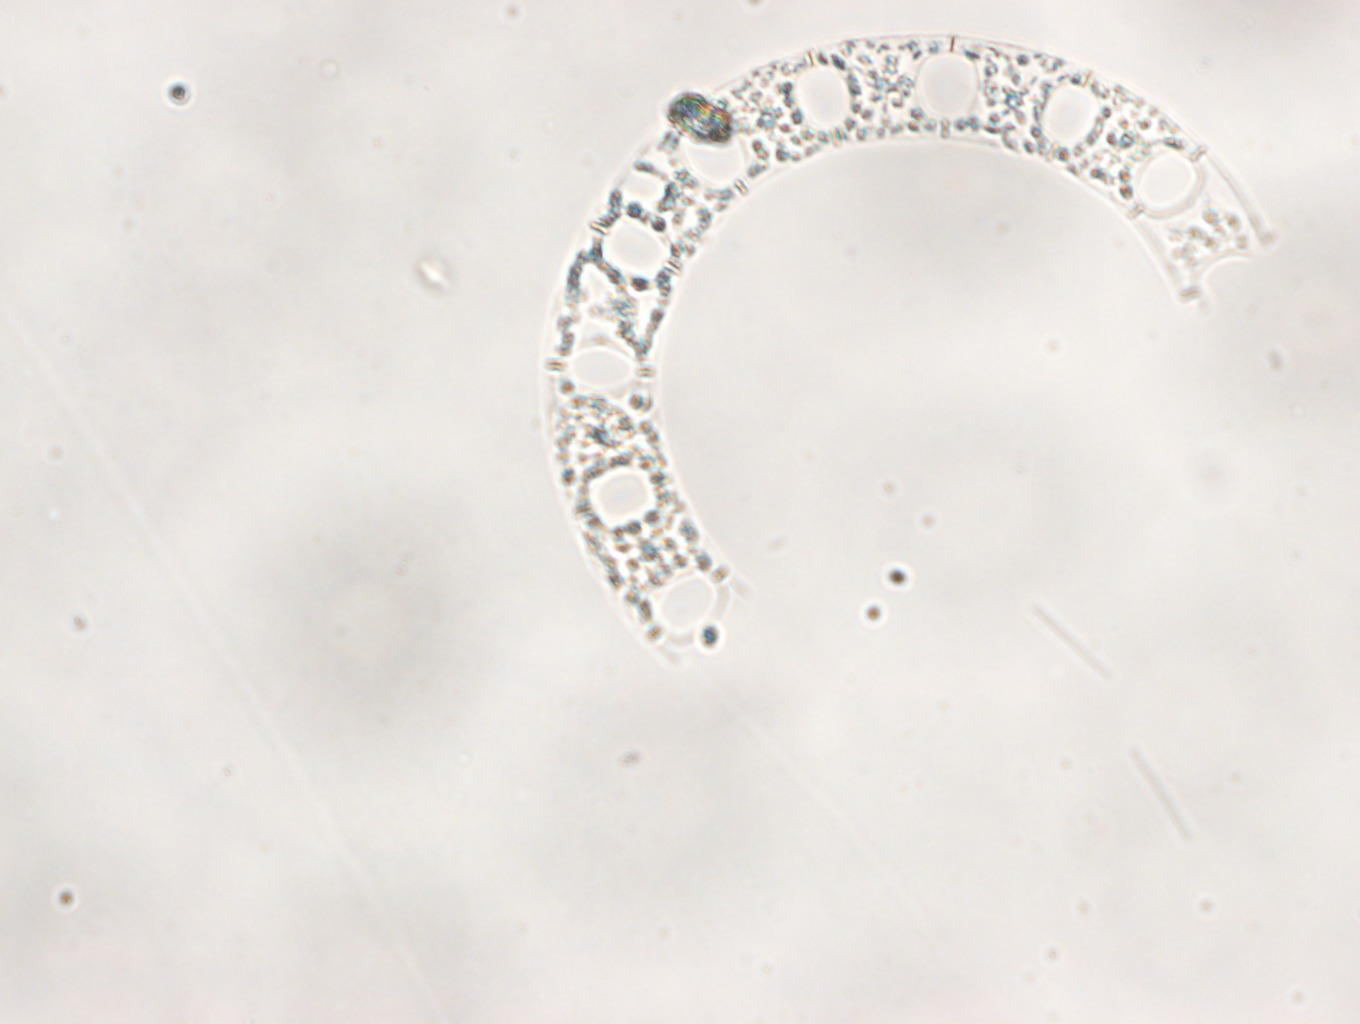eucampia: (545, 32, 1273, 664)
